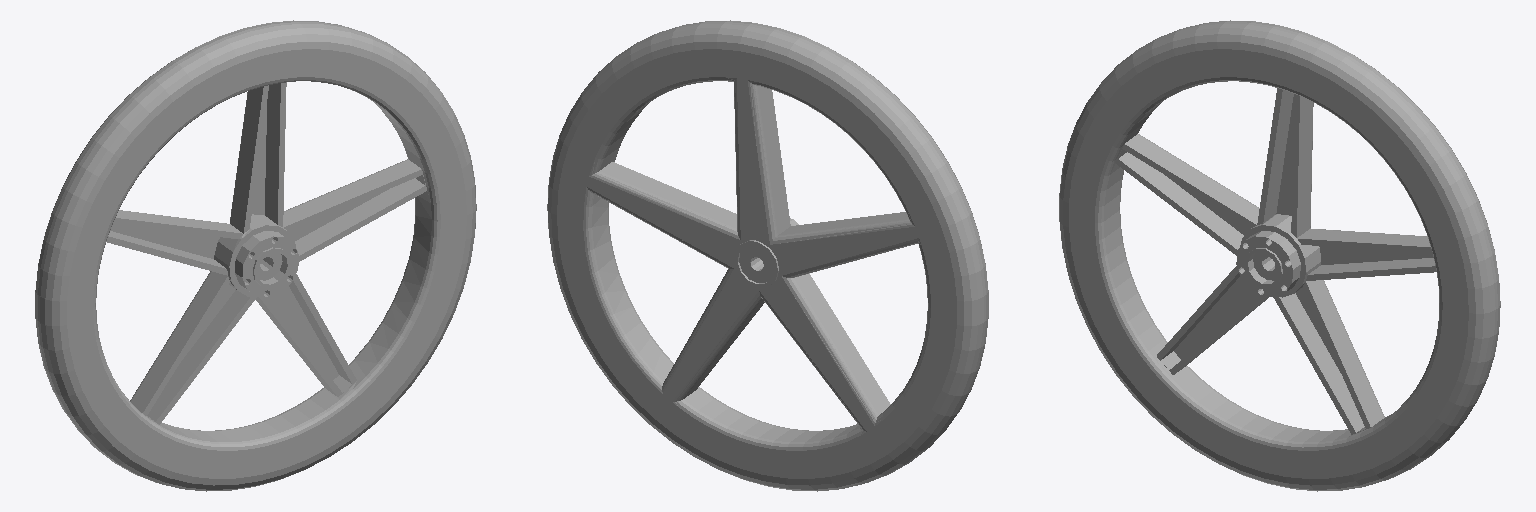
The robot description file, URDF, robot "Segway_Roboticslab_v2H":
<robot
  name="Segway_Roboticslab_v2H">
  <link
    name="KUDOS_body">
    <inertial>
      <origin
        xyz="0 0 0.14"
        rpy="0 0 0" />
      <mass
        value="37.65" />
      <inertia
        ixx="4.97"
        ixy="0.04"
        ixz="-0.01"
        iyy="4.64"
        iyz="-0.02"
        izz="0.82" />
    </inertial>
    <visual>
      <origin
        xyz="0 0 0"
        rpy="0 0 0" />
      <geometry>
        <mesh
          filename="package://Segway_Roboticslab_v2H/meshes/KUDOS_body.STL" />
      </geometry>
      <material
        name="">
        <color
          rgba="0.77647 0.75686 0.73725 1" />
      </material>
    </visual>
    <collision>
      <origin
        xyz="0 0 0"
        rpy="0 0 0" />
      <geometry>
        <mesh
          filename="package://Segway_Roboticslab_v2H/meshes/KUDOS_body.STL" />
      </geometry>
    </collision>
  </link>
  <link
    name="KUDOS_wheel1">
    <inertial>
      <origin
        xyz="0 0.011823 0"
        rpy="0 0 0" />
      <mass
        value="0.84888" />
      <inertia
        ixx="0.010817"
        ixy="0"
        ixz="0"
        iyy="0.021479"
        iyz="0"
        izz="0.010817" />
    </inertial>
    <visual>
      <origin
        xyz="0 0 0"
        rpy="0 0 0" />
      <geometry>
        <mesh
          filename="package://Segway_Roboticslab_v2H/meshes/KUDOS_wheel1.STL" />
      </geometry>
      <material
        name="">
        <color
          rgba="0.69804 0.69804 0.69804 1" />
      </material>
    </visual>
    <collision>
      <origin
        xyz="0 0 0"
        rpy="0 0 0" />
      <geometry>
        <mesh
          filename="package://Segway_Roboticslab_v2H/meshes/KUDOS_wheel1.STL" />
      </geometry>
    </collision>
  </link>
  <joint
    name="KUDOS_wheel1shaft"
    type="continuous">
    <origin
      xyz="0 0.274 0"
      rpy="3.1416 1.4851 3.1416" />
    <parent
      link="KUDOS_body" />
    <child
      link="KUDOS_wheel1" />
    <axis
      xyz="0 -1 0" />
    <limit
      effort="1000"
      velocity="0" />
  </joint>
  <link
    name="KUDOS_wheel2">
    <inertial>
      <origin
        xyz="0 0.011823 0"
        rpy="0 0 0" />
      <mass
        value="0.84888" />
      <inertia
        ixx="0.010817"
        ixy="0"
        ixz="0"
        iyy="0.021479"
        iyz="0"
        izz="0.010817" />
    </inertial>
    <visual>
      <origin
        xyz="0 0 0"
        rpy="0 0 0" />
      <geometry>
        <mesh
          filename="package://Segway_Roboticslab_v2H/meshes/KUDOS_wheel2.STL" />
      </geometry>
      <material
        name="">
        <color
          rgba="0.69804 0.69804 0.69804 1" />
      </material>
    </visual>
    <collision>
      <origin
        xyz="0 0 0"
        rpy="0 0 0" />
      <geometry>
        <mesh
          filename="package://Segway_Roboticslab_v2H/meshes/KUDOS_wheel2.STL" />
      </geometry>
    </collision>
  </link>
  <joint
    name="KUDOS_wheel2shaft"
    type="continuous">
    <origin
      xyz="0 -0.274 0"
      rpy="1.8287E-27 1.4851 -3.1416" />
    <parent
      link="KUDOS_body" />
    <child
      link="KUDOS_wheel2" />
    <axis
      xyz="0 -1 0" />
    <limit
      effort="1000"
      velocity="0" />
  </joint>
</robot>

--- Facts derived from the render (not from the file) ---
Views: 3 orthographic renders of the robot side by side, from view 1: azimuth 30°, elevation 25°; view 2: azimuth 150°, elevation 25°; view 3: azimuth 330°, elevation 25°.
Model Segway_Roboticslab_v2H with 3 links and 2 joints (2 continuous), rooted at KUDOS_body, posed all joints at 0.
Visible links, largest first — view 1: KUDOS_wheel1; view 2: KUDOS_wheel1; view 3: KUDOS_wheel1.
Boxes of the visible links, bbox=[...] form: KUDOS_wheel1: bbox=[35, 20, 476, 491]; KUDOS_wheel1: bbox=[547, 20, 988, 491]; KUDOS_wheel1: bbox=[1059, 20, 1500, 491].
Size in the robot's own frame: 0.3847 by 0.0441 by 0.3848 metres.
1 mesh visuals loaded from 3 distinct referenced files (1 binary STL); not drawn: 2 (reference not matched to a file when rendering).